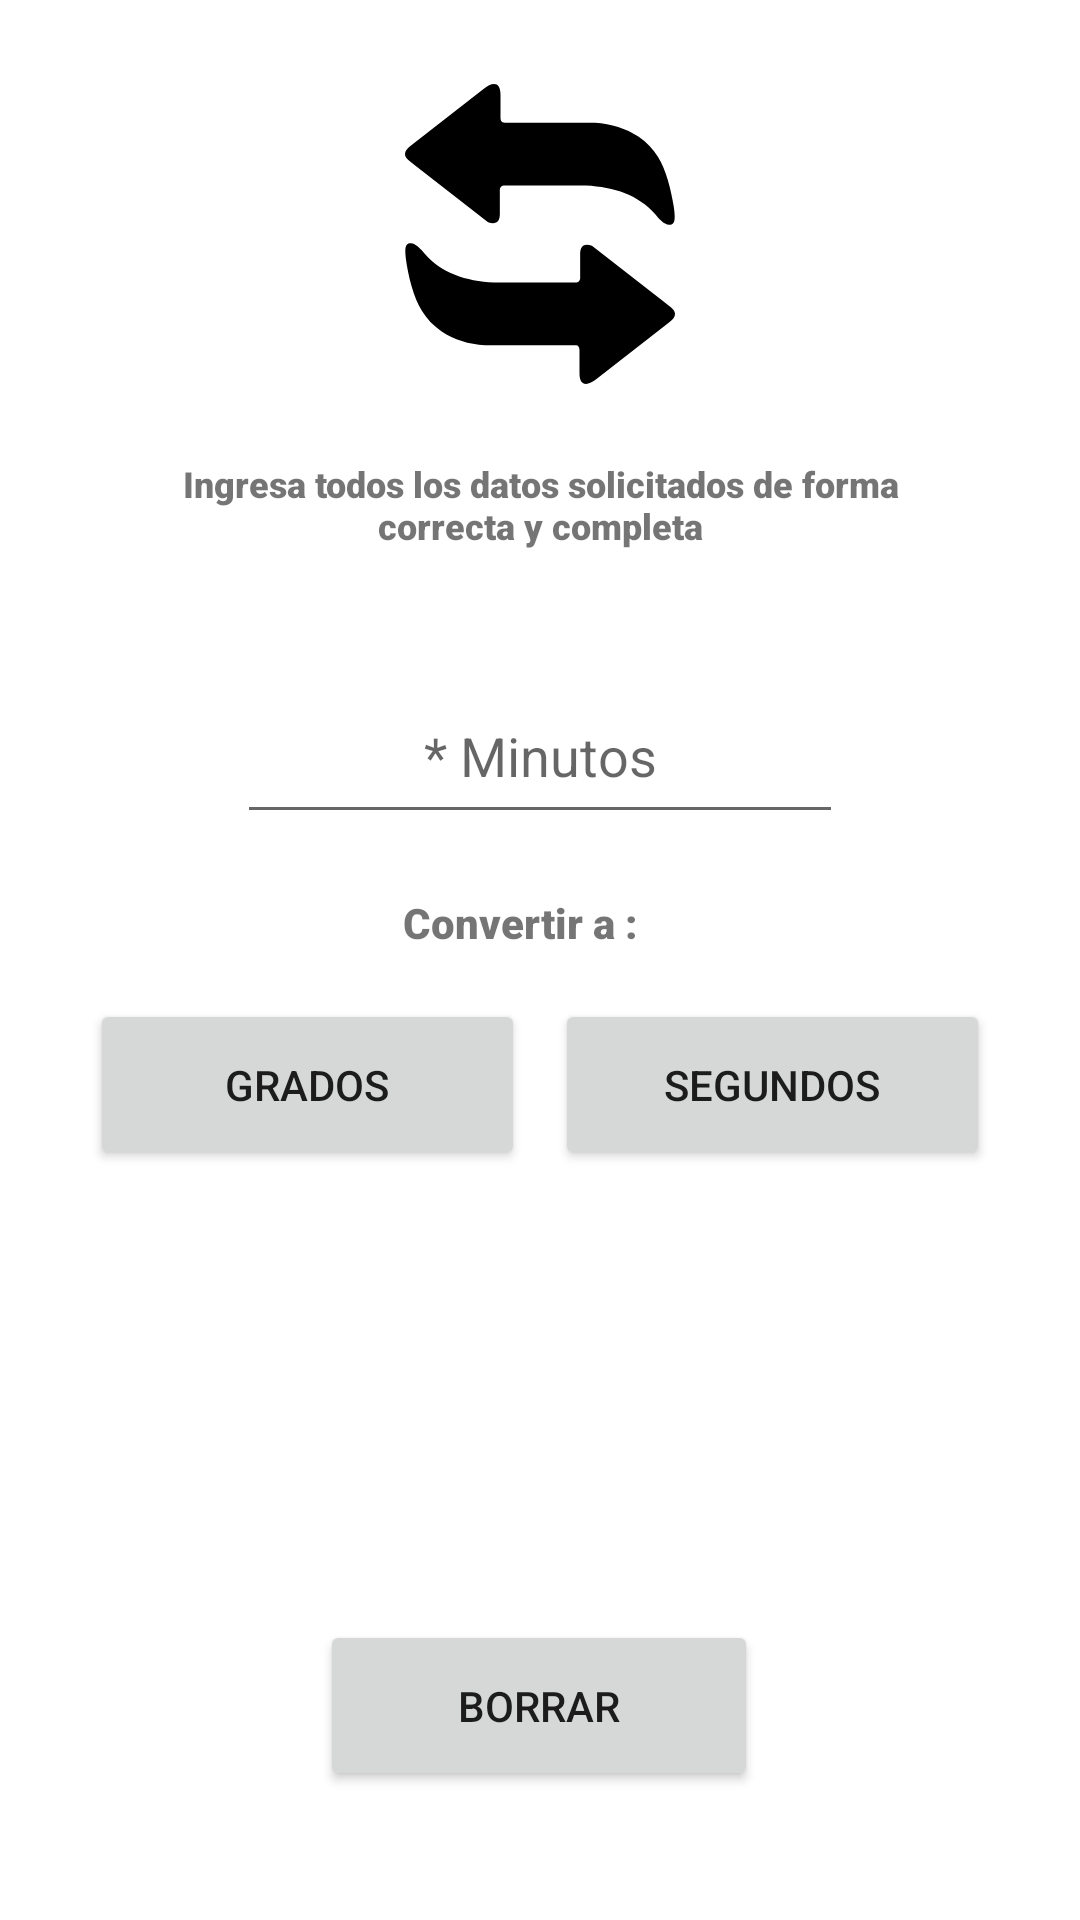

Screen size 1080px×1920px. Icon name, then its center in pixels as (x=x, y=y):
convertir: (x=540, y=234)
